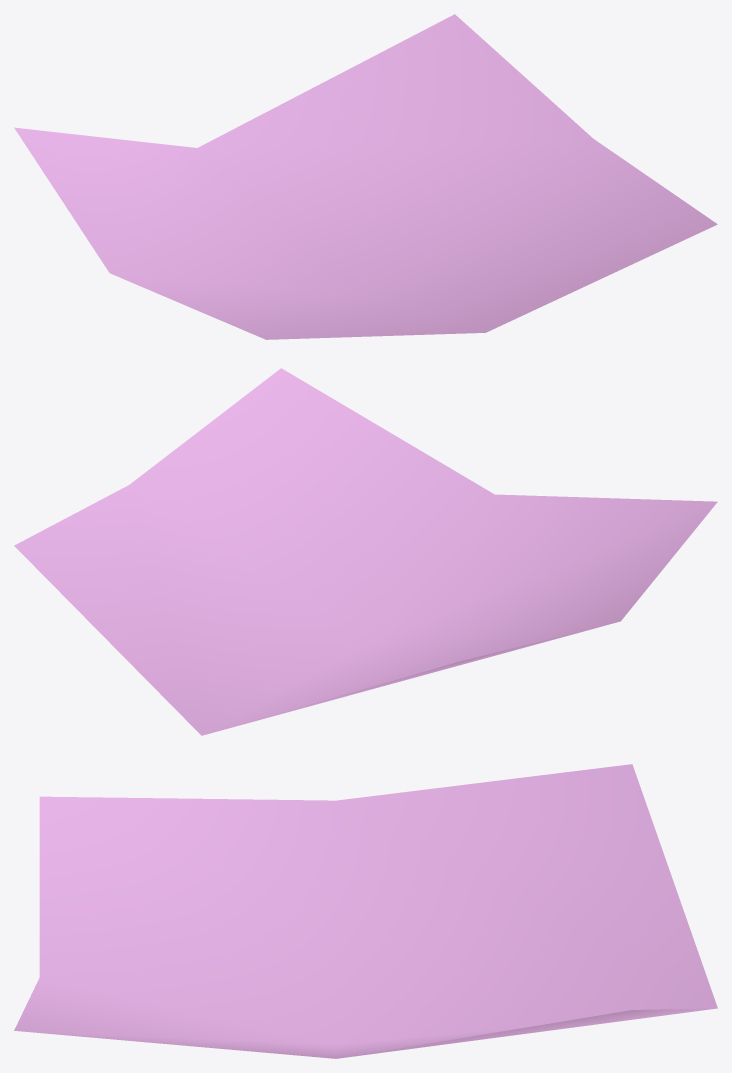
3 views of the same model, one above another, from view 1: azimuth 30°, elevation 25°; view 2: azimuth 150°, elevation 25°; view 3: azimuth 270°, elevation 25° (orthographic). The views are drawn at different scales.
Visible parts, largest first — view 1: Object16; view 2: Object16; view 3: Object16.
Part boxes in pixels (x1,y1,x2,y2): Object16: (14,14,717,339); Object16: (14,368,717,735); Object16: (14,764,717,1058).
Size of the model in its own units: 9811 by 2639 by 10518.
